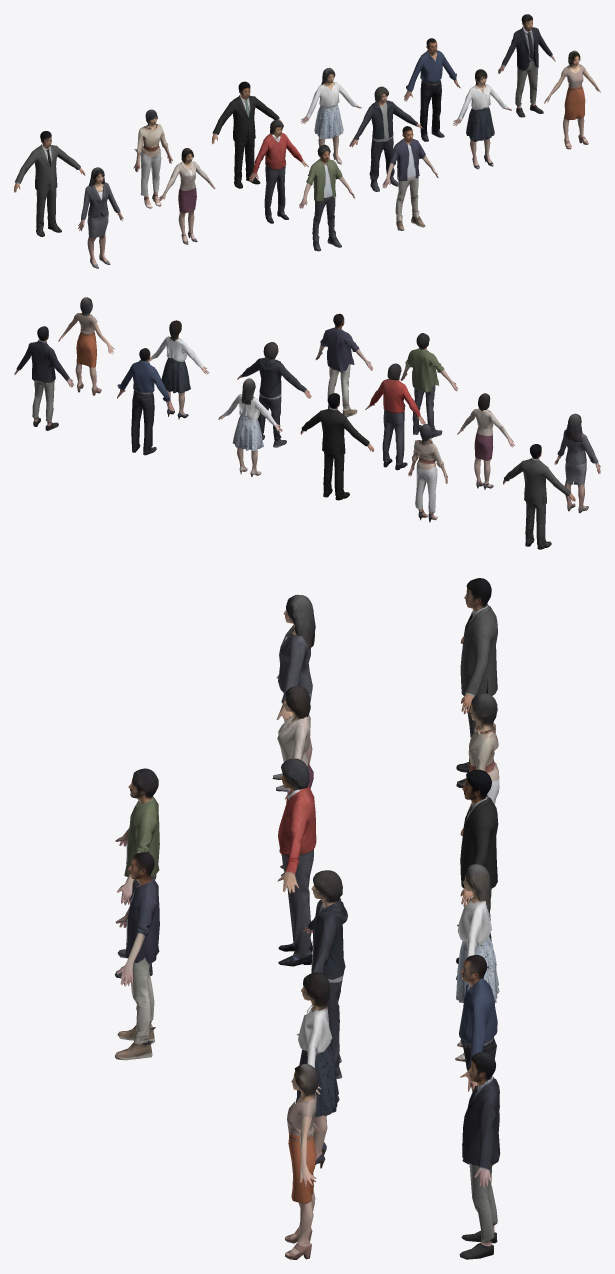
The model's file is people.glb.
The picture shows the model from 3 angles, top to bottom: view 1: azimuth 30°, elevation 25°; view 2: azimuth 150°, elevation 25°; view 3: azimuth 270°, elevation 25°; orthographic projection. The views are drawn at different scales.
Parts seen in each view (by area): view 1: Citizen 00amza_004, Citizen 00amza_001, Citizen 00amza_003, Citizen 00amza_011, Citizen 00amza_010, Citizen 00amza_006, Citizen 00amza_012, Citizen 00amza_008, Citizen 00amza_002, Citizen 00amza_005, Citizen 00amza_007, Citizen 00amza_014 (+2 smaller); view 2: Citizen 00amza_004, Citizen 00amza_011, Citizen 00amza_001, Citizen 00amza_006, Citizen 00amza_008, Citizen 00amza_003, Citizen 00amza_007, Citizen 00amza_010, Citizen 00amza_012, Citizen 00amza_005, Citizen 00amza_002, Citizen 00amza_014 (+2 smaller); view 3: Citizen 00amza_012, Citizen 00amza_006, Citizen 00amza_008, Citizen 00amza_009, Citizen 00amza_003, Citizen 00amza_002, Citizen 00amza_001, Citizen 00amza_007, Citizen 00amza_004, Citizen 00amza_011, Citizen 00amza_010, Citizen 00amza_005 (+2 smaller).
Part boxes in pixels (left/top/right/bottom): Citizen 00amza_004: left=212, top=81, right=283, bottom=188; Citizen 00amza_001: left=14, top=131, right=85, bottom=236; Citizen 00amza_003: left=349, top=86, right=423, bottom=191; Citizen 00amza_011: left=404, top=38, right=460, bottom=141; Citizen 00amza_010: left=299, top=144, right=355, bottom=251; Citizen 00amza_006: left=249, top=119, right=308, bottom=223; Citizen 00amza_012: left=382, top=126, right=438, bottom=230; Citizen 00amza_008: left=498, top=14, right=555, bottom=117; Citizen 00amza_002: left=453, top=69, right=511, bottom=169; Citizen 00amza_005: left=78, top=167, right=123, bottom=268; Citizen 00amza_007: left=301, top=67, right=361, bottom=164; Citizen 00amza_014: left=133, top=109, right=172, bottom=208; Citizen 00amza_004: left=300, top=393, right=374, bottom=500; Citizen 00amza_011: left=117, top=348, right=174, bottom=455; Citizen 00amza_001: left=503, top=444, right=575, bottom=549; Citizen 00amza_006: left=365, top=363, right=425, bottom=470; Citizen 00amza_008: left=14, top=326, right=74, bottom=430; Citizen 00amza_003: left=237, top=342, right=311, bottom=447; Citizen 00amza_007: left=218, top=378, right=282, bottom=476; Citizen 00amza_010: left=400, top=333, right=457, bottom=438; Citizen 00amza_012: left=315, top=313, right=372, bottom=417; Citizen 00amza_005: left=554, top=413, right=600, bottom=513; Citizen 00amza_002: left=148, top=320, right=209, bottom=419; Citizen 00amza_014: left=408, top=424, right=447, bottom=522; Citizen 00amza_012: left=115, top=852, right=159, bottom=1060; Citizen 00amza_006: left=277, top=758, right=316, bottom=966; Citizen 00amza_008: left=459, top=1052, right=500, bottom=1259; Citizen 00amza_009: left=285, top=1063, right=318, bottom=1259; Citizen 00amza_003: left=302, top=870, right=347, bottom=1078; Citizen 00amza_002: left=295, top=972, right=339, bottom=1168; Citizen 00amza_001: left=456, top=578, right=497, bottom=787; Citizen 00amza_007: left=455, top=864, right=499, bottom=1061; Citizen 00amza_004: left=456, top=769, right=498, bottom=979; Citizen 00amza_011: left=459, top=954, right=497, bottom=1164; Citizen 00amza_010: left=115, top=768, right=159, bottom=978; Citizen 00amza_005: left=272, top=594, right=315, bottom=791.
Size of the model in its own units: 10.94 by 1.94 by 3.34.
28 materials, 28 textured.
